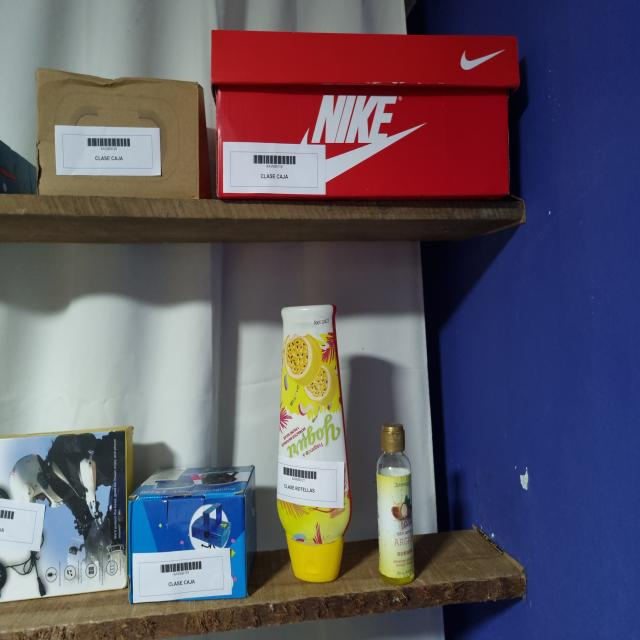botella: (277, 305, 352, 582), (376, 423, 414, 584)
caja: (211, 30, 519, 200), (0, 426, 134, 601), (35, 68, 210, 199), (129, 465, 256, 603)
